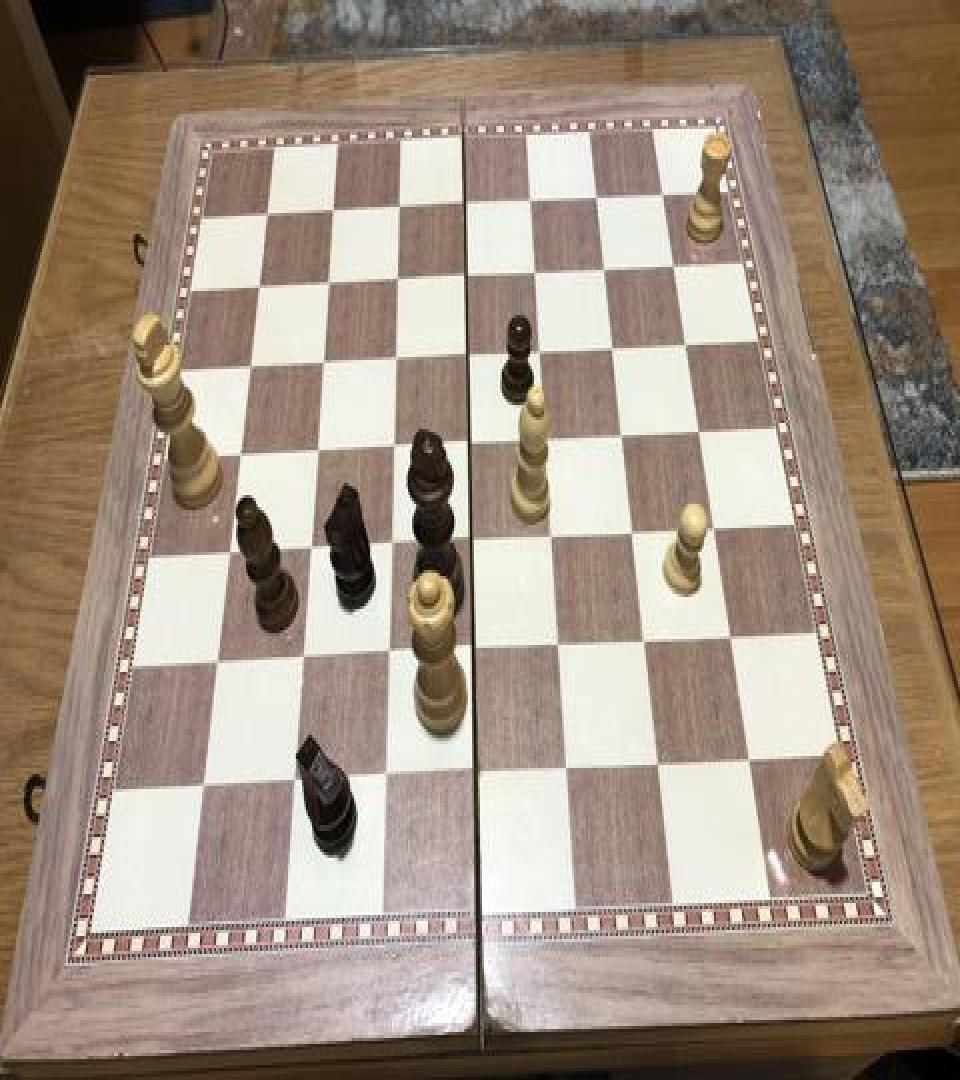xcorner: (703, 514, 727, 551), (719, 622, 743, 659), (547, 631, 571, 668), (645, 748, 669, 785), (191, 769, 215, 806), (654, 180, 678, 216), (587, 184, 611, 220), (455, 190, 479, 226), (388, 195, 412, 231), (322, 198, 346, 234), (256, 202, 280, 238), (664, 252, 688, 288), (595, 255, 619, 291), (456, 262, 480, 298), (386, 267, 410, 303), (317, 270, 341, 306), (248, 274, 272, 310), (676, 330, 700, 366), (603, 334, 627, 370), (530, 339, 554, 375), (457, 342, 481, 378), (384, 346, 408, 382), (311, 350, 335, 386), (239, 354, 263, 390), (689, 417, 713, 453), (612, 422, 636, 458), (535, 426, 559, 462), (458, 429, 482, 465), (382, 434, 406, 470), (305, 438, 329, 474), (229, 441, 253, 477), (622, 519, 646, 555), (541, 522, 565, 558), (460, 526, 484, 562), (379, 531, 403, 567), (298, 536, 322, 572), (217, 538, 241, 574), (633, 627, 657, 663), (461, 634, 485, 670), (376, 639, 400, 675), (290, 644, 314, 680), (205, 648, 229, 684), (737, 744, 761, 780), (554, 753, 578, 789), (463, 758, 487, 794), (372, 762, 396, 798), (281, 766, 305, 802), (521, 188, 545, 223), (525, 260, 549, 295)
